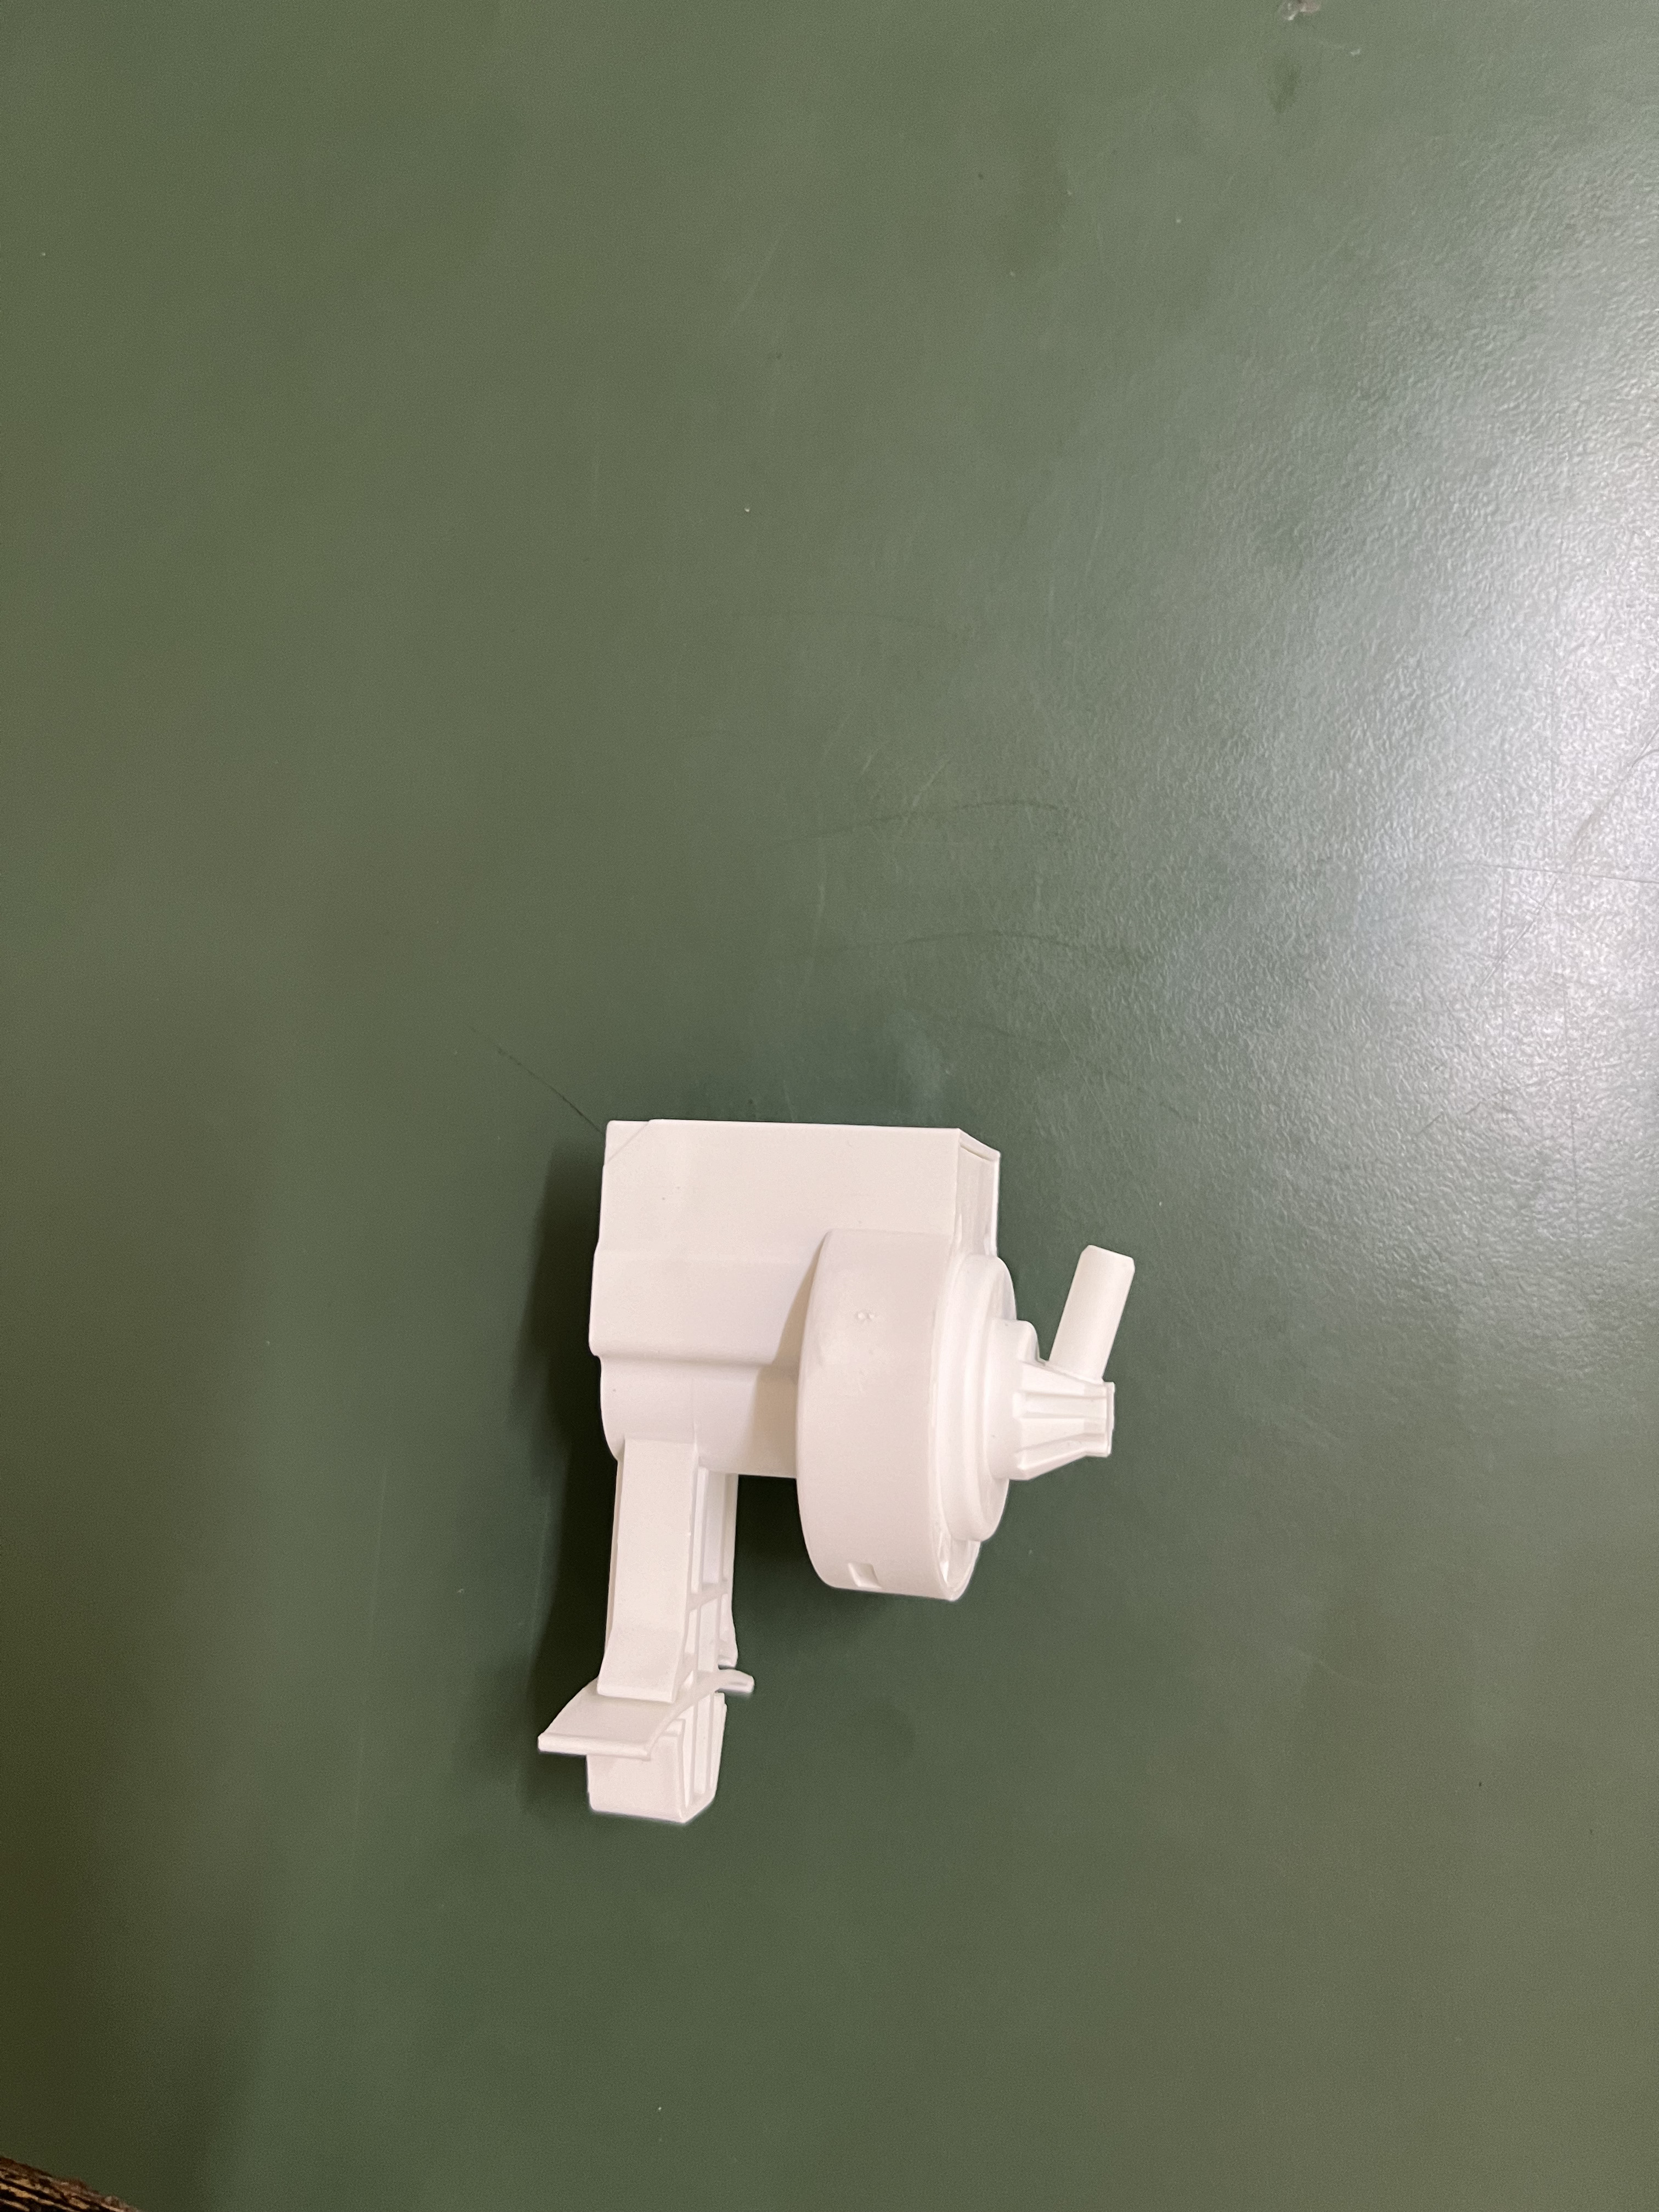pressure_switch_1: (500, 1080, 1136, 1890)
